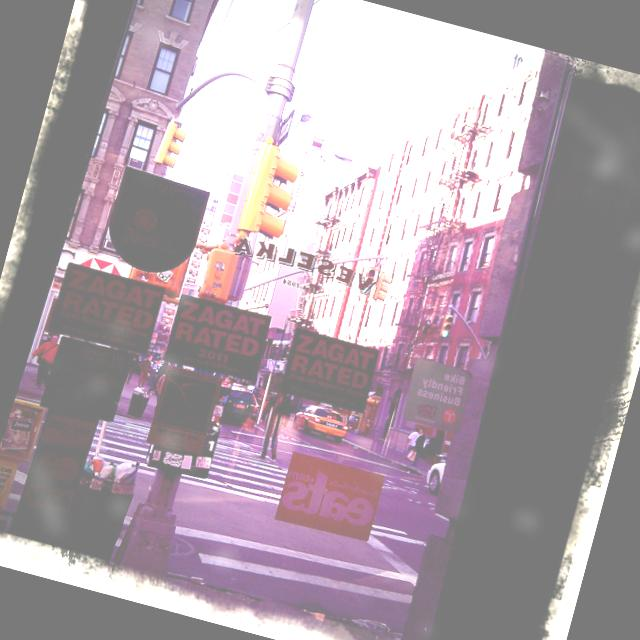Vehicle: (217, 382, 267, 440), (290, 397, 352, 443), (422, 458, 447, 496)
